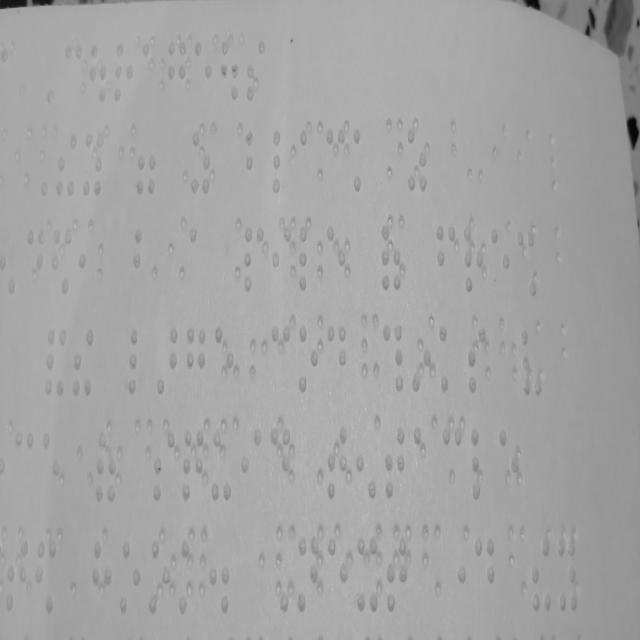braiile: (2, 527, 32, 620), (355, 528, 382, 624), (152, 418, 178, 511), (176, 532, 202, 625), (379, 420, 406, 508), (144, 534, 172, 618), (268, 420, 293, 512), (488, 221, 514, 309), (294, 534, 322, 615), (434, 213, 459, 300), (520, 318, 544, 408), (90, 528, 114, 618), (554, 532, 580, 615), (322, 220, 347, 306), (467, 422, 492, 508), (326, 416, 350, 504), (118, 536, 142, 624), (211, 322, 236, 405), (243, 218, 267, 304), (131, 218, 156, 300), (238, 422, 262, 507), (385, 530, 408, 618), (497, 424, 521, 508), (473, 534, 497, 618), (185, 317, 208, 404), (80, 120, 105, 200), (270, 118, 294, 200), (40, 424, 64, 506), (209, 428, 233, 510), (440, 422, 464, 504), (268, 317, 292, 398), (436, 318, 460, 399), (466, 321, 490, 402), (191, 32, 215, 112), (326, 536, 350, 616), (297, 218, 320, 300), (462, 218, 485, 300), (411, 422, 434, 504), (164, 34, 189, 109), (128, 319, 150, 404), (350, 118, 373, 199), (298, 125, 322, 201), (24, 221, 46, 303), (270, 219, 292, 301), (188, 221, 212, 296), (298, 320, 320, 400), (326, 320, 346, 406), (324, 121, 346, 199), (14, 427, 36, 505), (62, 40, 84, 112), (244, 38, 266, 109), (243, 122, 264, 196), (140, 40, 162, 109), (114, 36, 134, 108)
